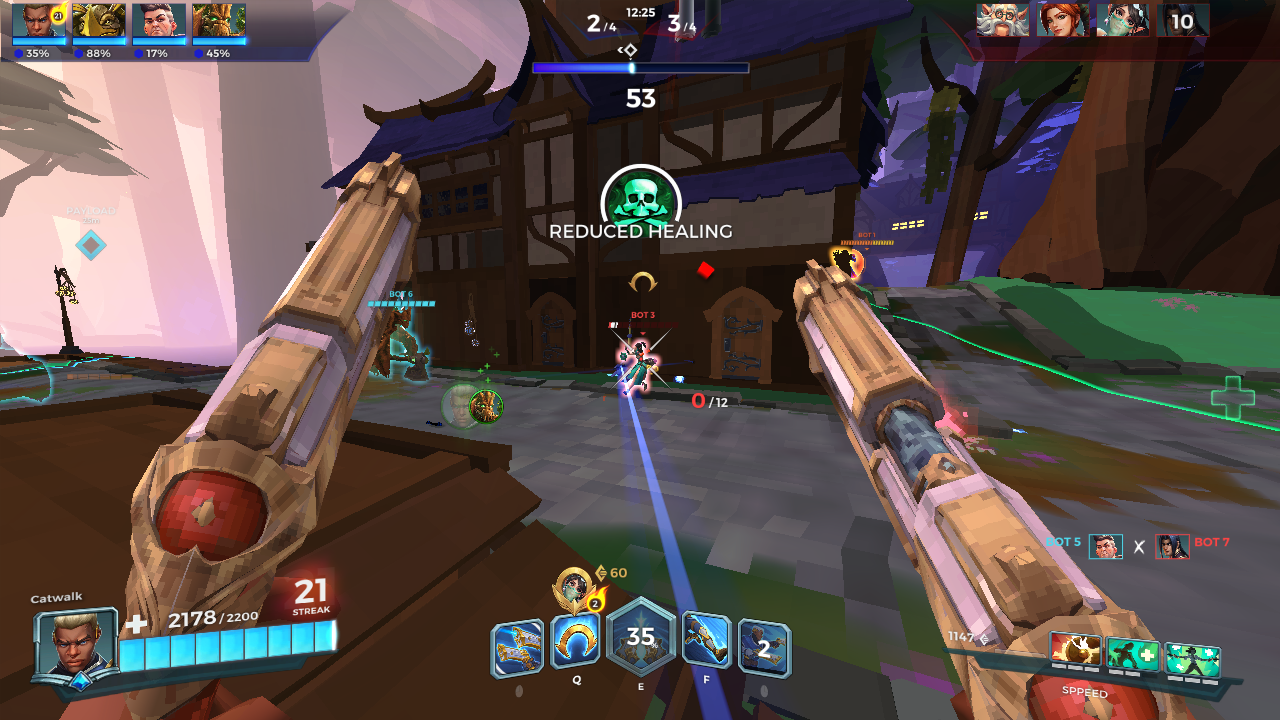model: (619, 334, 653, 402), (836, 246, 854, 282)
